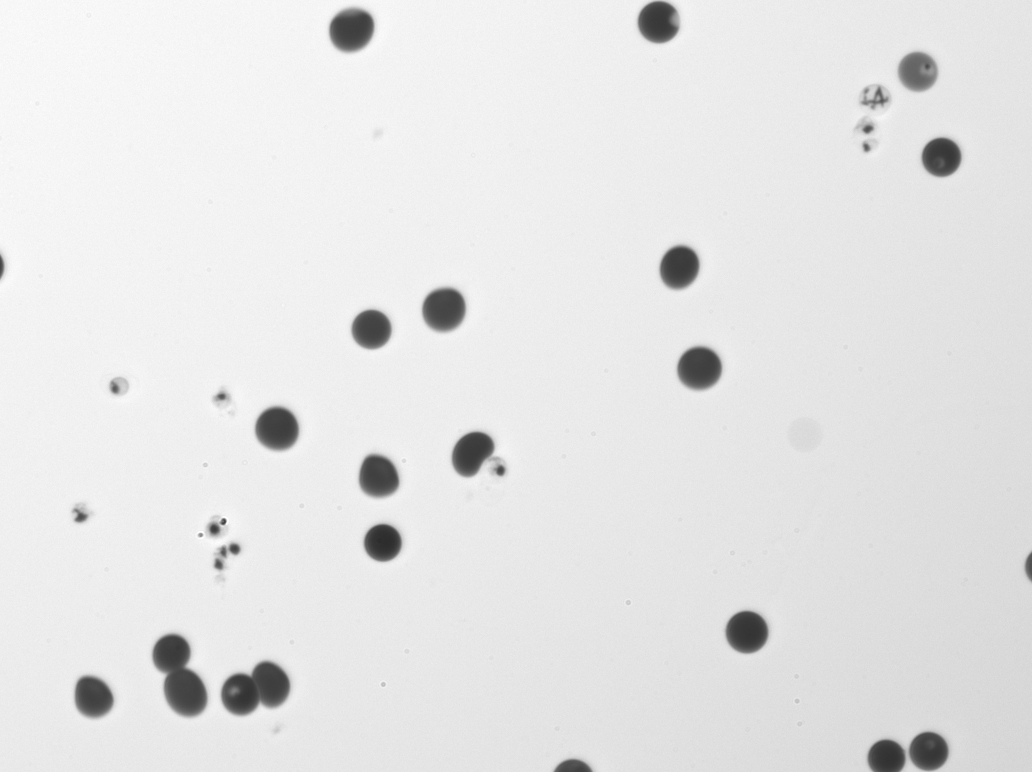healthy: (163, 667, 208, 716), (451, 431, 495, 478), (677, 346, 722, 391), (254, 405, 299, 450), (421, 287, 466, 332), (328, 8, 374, 52), (725, 609, 769, 653), (251, 659, 291, 706), (637, 1, 680, 44), (358, 453, 399, 497), (659, 246, 700, 290), (74, 676, 114, 720), (351, 309, 392, 350), (152, 632, 191, 670), (363, 523, 402, 561), (867, 739, 906, 771), (554, 759, 592, 771), (1024, 553, 1031, 579)
misc: (207, 516, 241, 586), (785, 415, 824, 453), (856, 81, 892, 115), (213, 384, 238, 426), (854, 116, 880, 156), (483, 455, 507, 484), (106, 375, 132, 399), (71, 501, 94, 527)
ring: (221, 672, 260, 715), (908, 731, 949, 771), (922, 138, 962, 178)
trophozoite: (897, 52, 938, 94)
